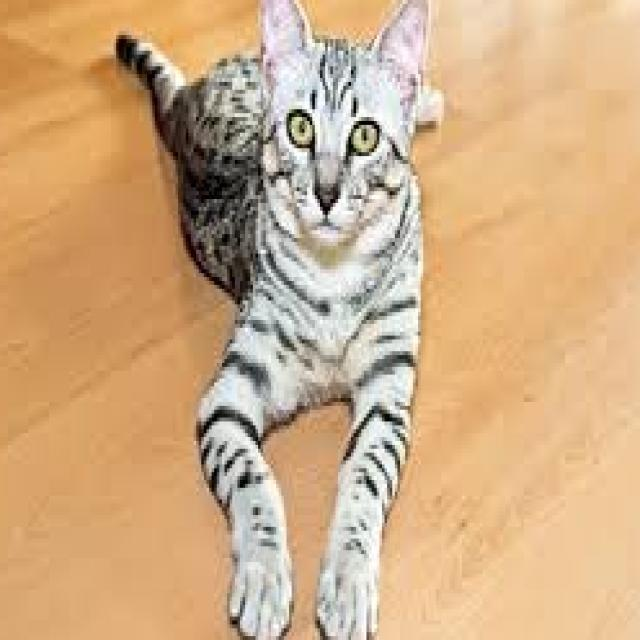Egyptian Mau: (111, 0, 444, 640)
